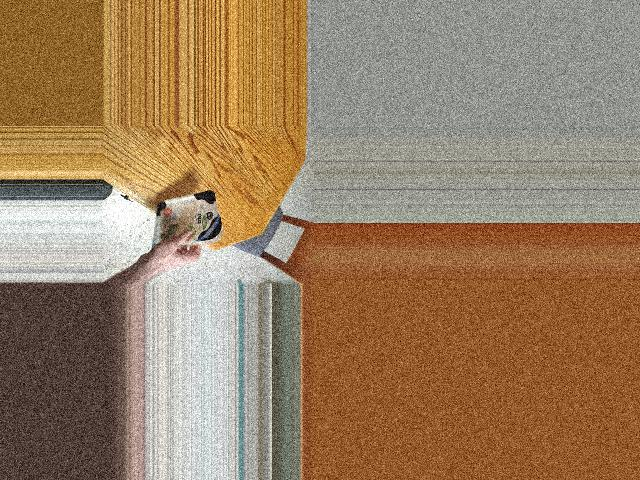cheese: (140, 194, 224, 250)
